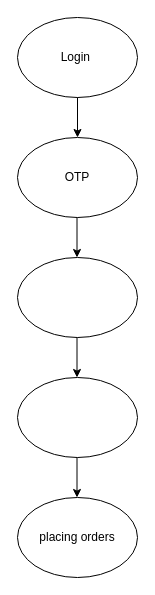
This 155x595 diagram has some shape labels left out. Each missing label, with the centre of its shape:
Location: (x=77, y=297)
Name: (x=77, y=417)
